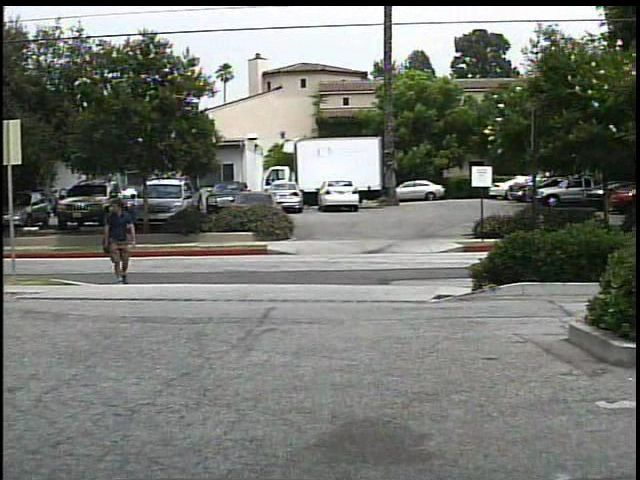person: (100, 197, 141, 284)
